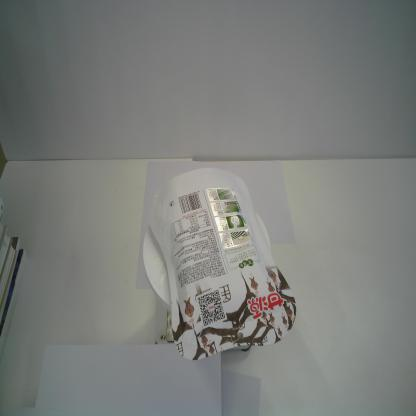Dried Fruit: (147, 167, 298, 362)
